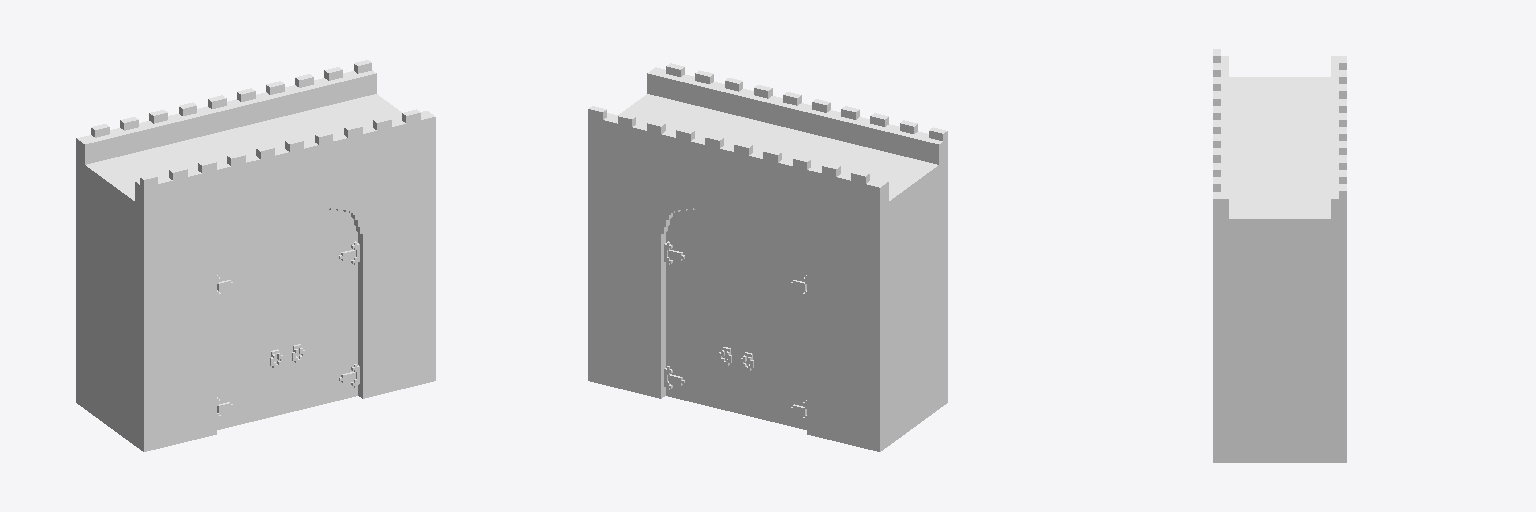
The model's file is TVS_VoxelKnights_Gate.obj.
3 views of the same model, side by side, from view 1: azimuth 30°, elevation 25°; view 2: azimuth 150°, elevation 25°; view 3: azimuth 270°, elevation 25° (orthographic).
Visible parts, largest first — view 1: ObjObject.006; view 2: ObjObject.006; view 3: ObjObject.006.
Part boxes in pixels (bbox=[...]): ObjObject.006: bbox=[76, 60, 435, 451]; ObjObject.006: bbox=[588, 63, 947, 451]; ObjObject.006: bbox=[1213, 49, 1346, 462].
Bounding box in the file's own units: 12 × 10.7 × 4.8.